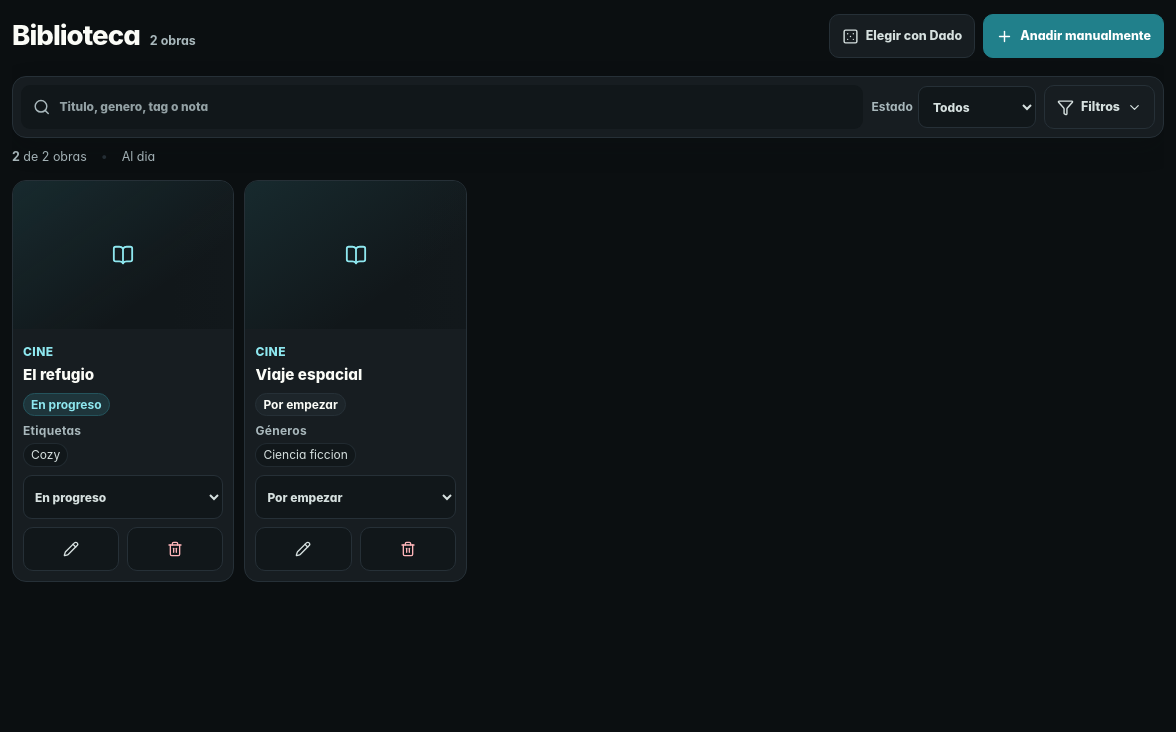
LibraryTab simplificada › busca solo dentro de las obras privadas y mantiene el estado visible
Expected: the dropdown named "Cambiar estado de El refugio" shows "En progreso", [23, 475, 223, 519]
Expected: the text with class "status" reads "En progreso", [31, 397, 102, 412]
In the search field named "Buscar en tu biblioteca": (455, 107) [59, 86, 851, 128], type "cozy"
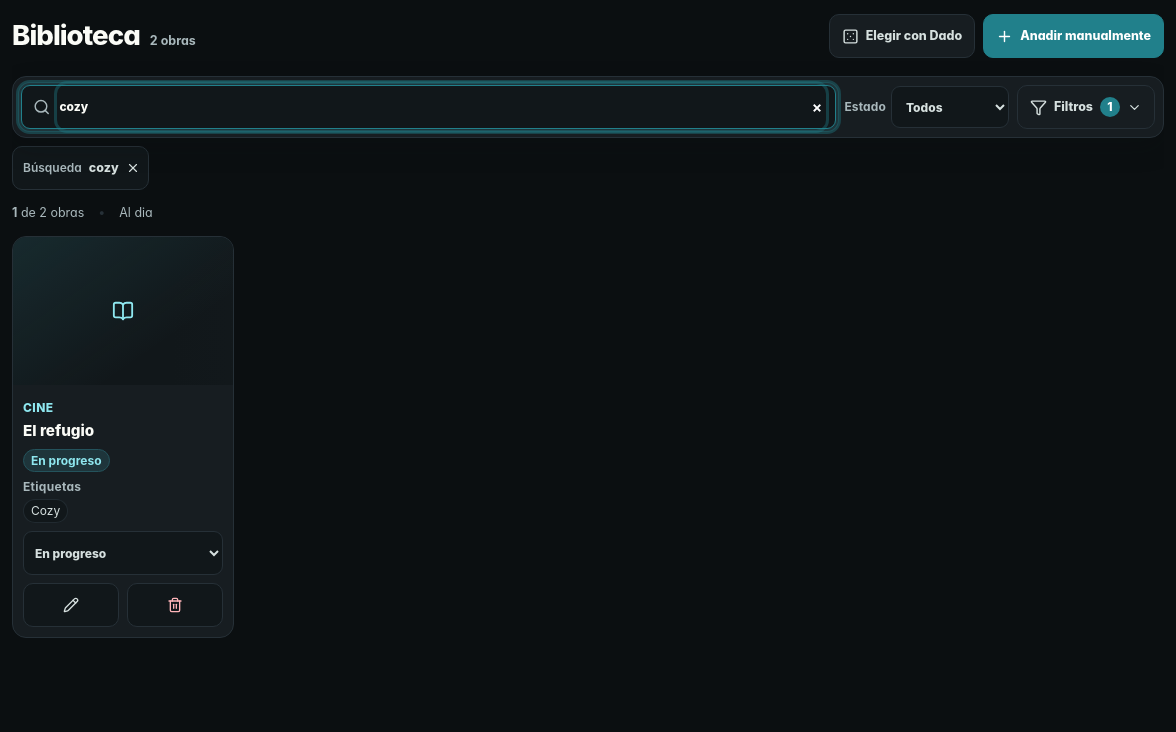
Expected: the heading "El refugio" is shown, [23, 421, 94, 441]
Now the heading "Viaje espacial" is gone
